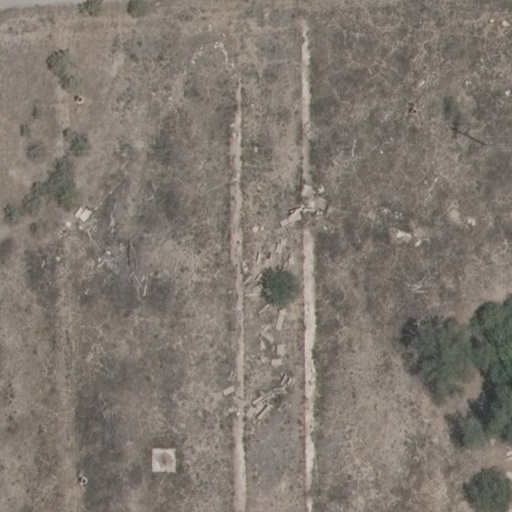DT: (476, 130, 497, 151)
